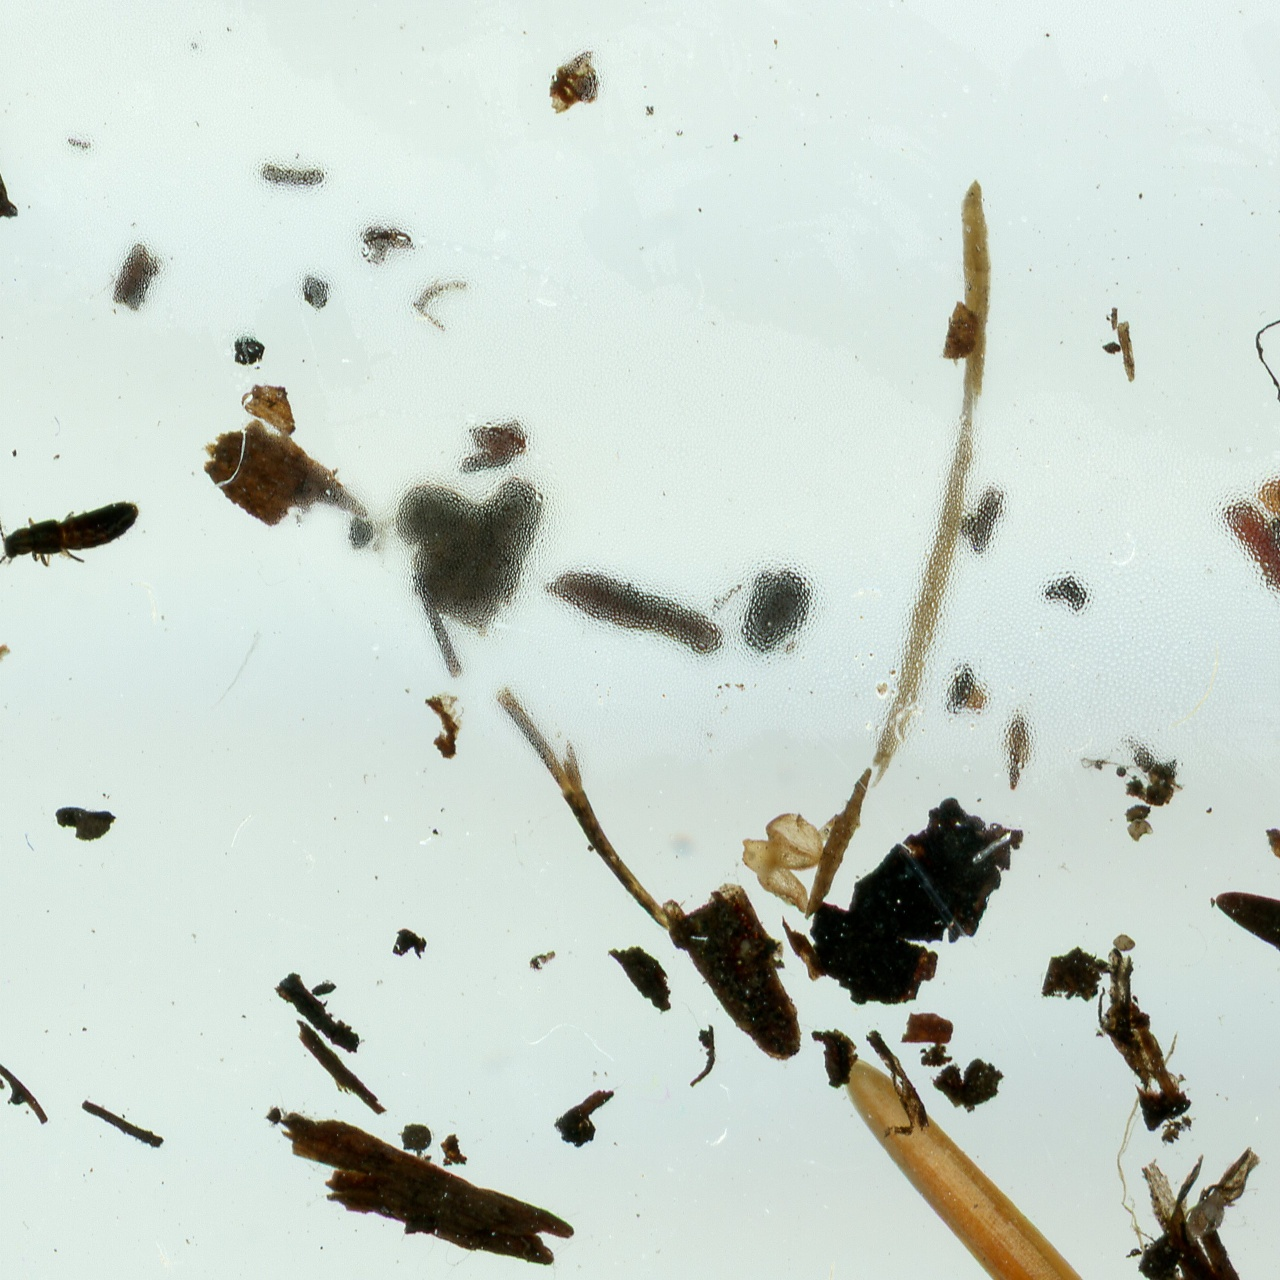arthropod: (0, 483, 149, 602)
